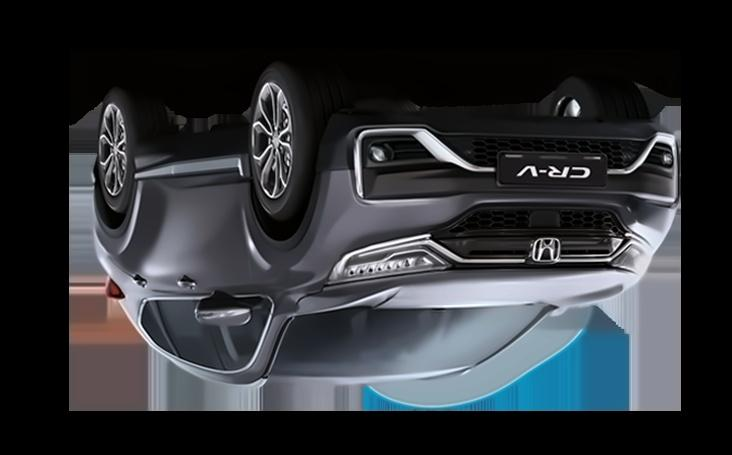Car hood: (292, 265, 643, 317)
Fender - -F-L-: (227, 120, 364, 291)
Fender - -R-L-: (73, 159, 172, 307)
Front bumper: (313, 97, 690, 179)
Passenger-s door - -F-L-: (181, 179, 276, 387)
Passenger-s door - -R-L-: (114, 176, 187, 370)
Rear light - -L-: (92, 264, 134, 312)
Side bumper - -L-: (126, 146, 257, 192)
Side mirror - -L-: (185, 286, 263, 334)
